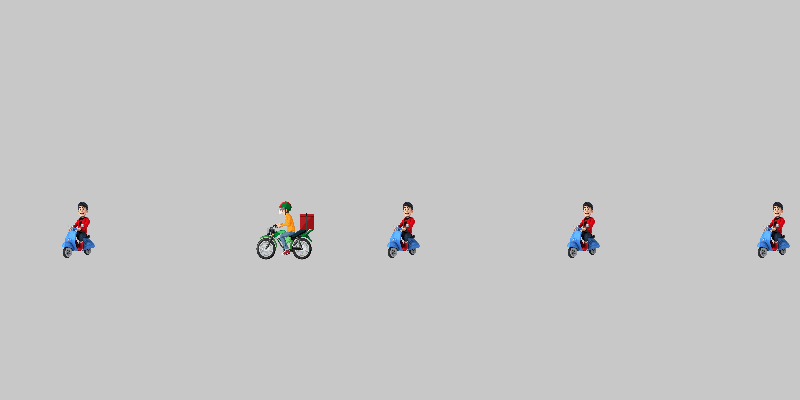helmet: (255, 200, 315, 260)
no_helmet: (50, 200, 110, 260), (375, 200, 435, 260), (555, 200, 615, 260), (745, 200, 800, 260)
